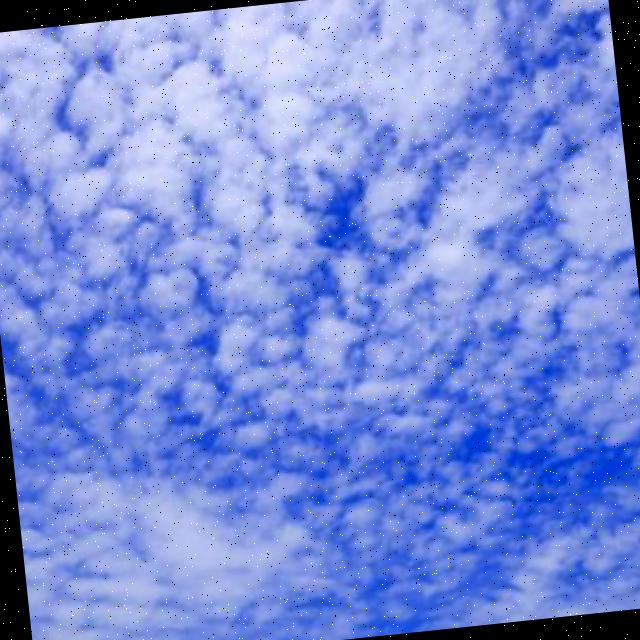Ci: (1, 1, 640, 637)
